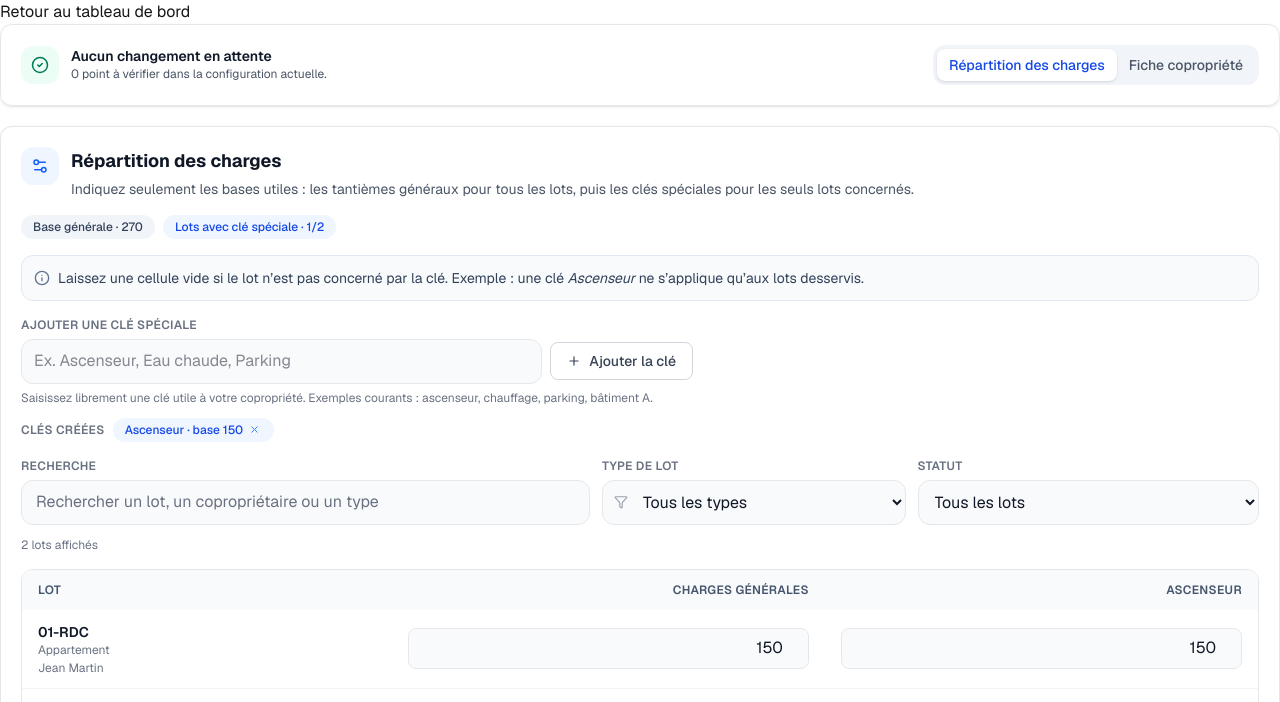
Scenario: CoproSettingsPanel › bascule réellement entre la répartition et la fiche copropriété
This screenshot has width=1280, height=702.
Check: the field with placeholder "Rechercher un lot, un copropriétaire ou un type" is shown, box [21, 480, 590, 525]
Step 1. Click the button "Fiche copropriété" → coordinates (1186, 65), box [1117, 49, 1255, 81]
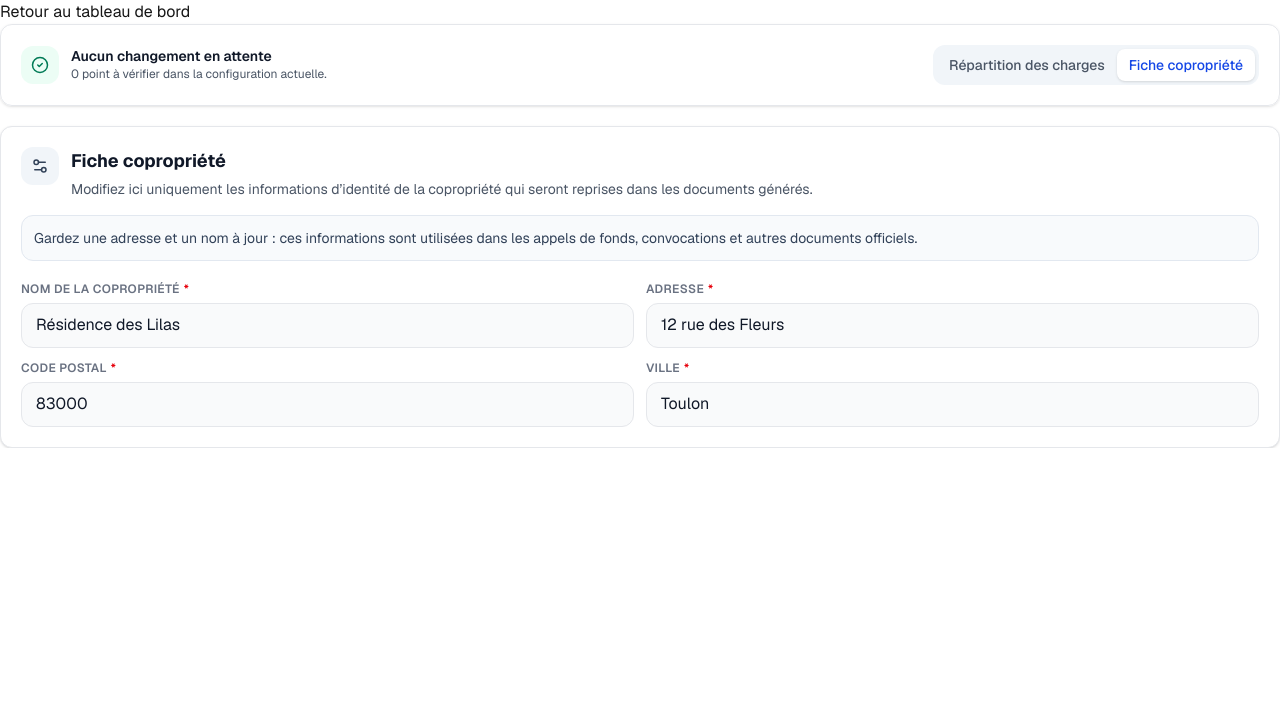
Check: the field with placeholder "Rechercher un lot" is not shown
Check: the field labelled "Nom de la copropriété*" is shown, box [21, 303, 634, 348]
